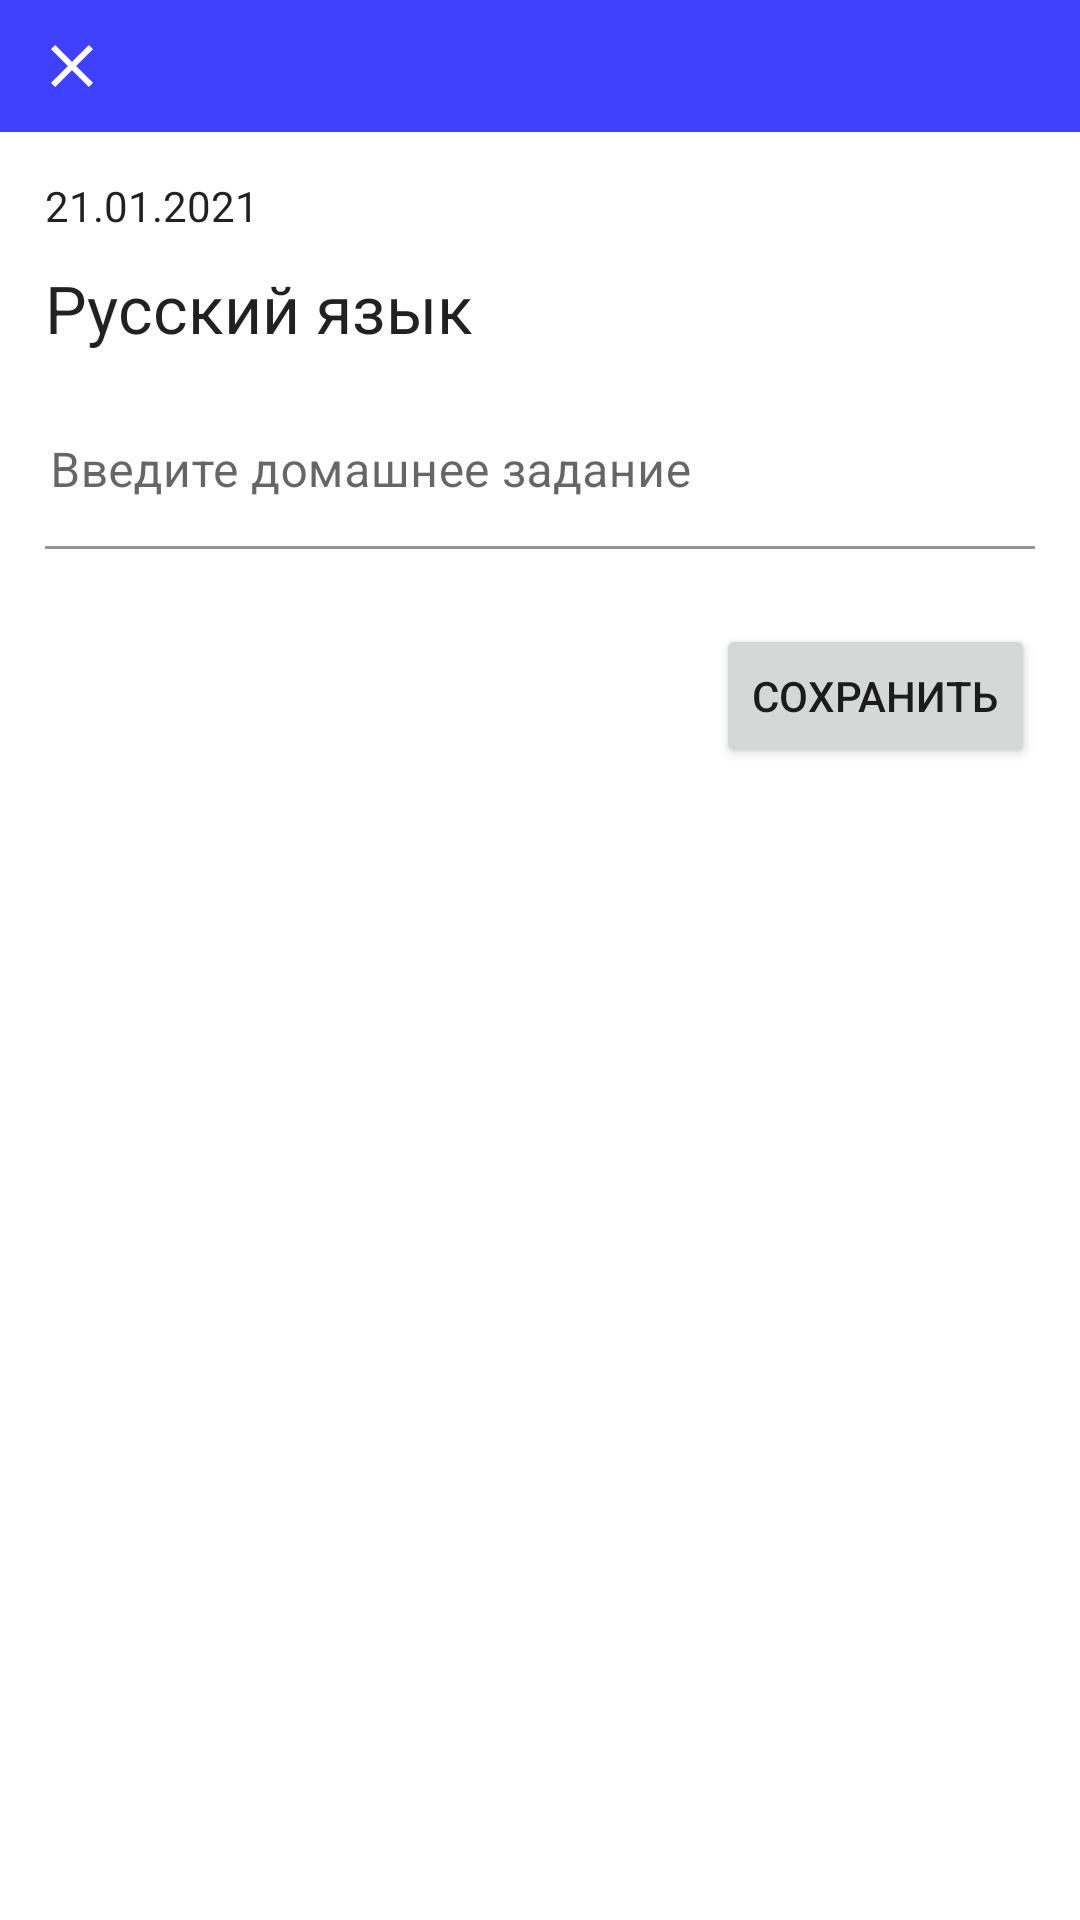

Where to tap for icons on this 1080*1920 app screen, as point (x, y):
cancel: point (72, 66)
